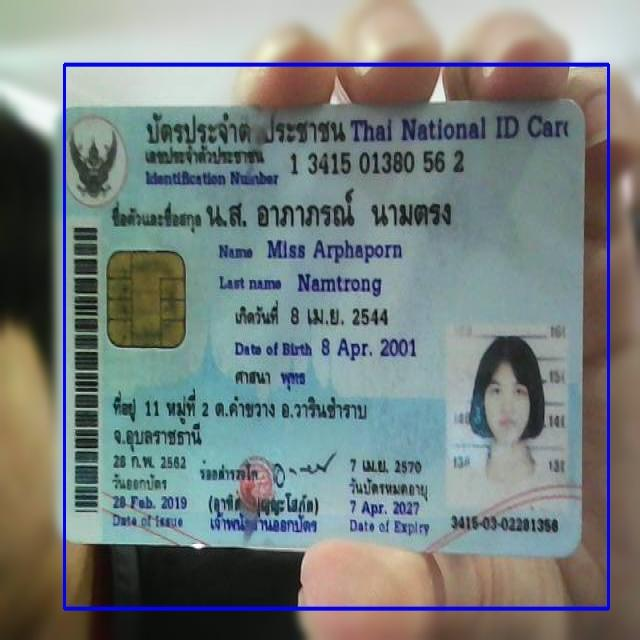Address_th: (107, 385, 375, 453)
Date_of_Birth: (317, 332, 422, 369)
Date_of_Expiry: (348, 496, 427, 518)
Date_of_Issue: (109, 491, 192, 513)
First_Name: (262, 232, 406, 268)
ID_Number: (286, 146, 474, 180)
Image: (448, 328, 566, 511)
Last_Name: (294, 270, 387, 299)
Thai_Name: (204, 185, 459, 239)
